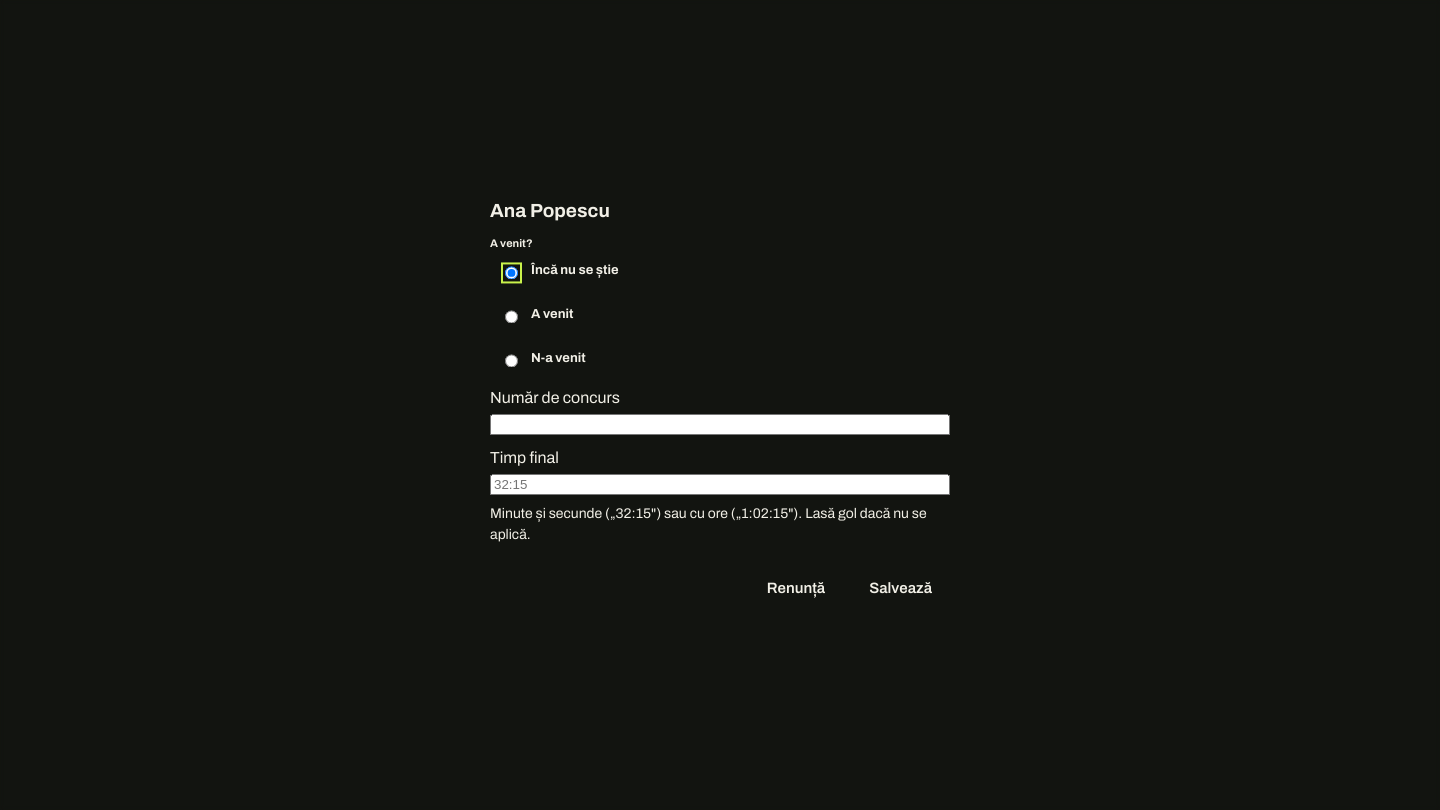
Test: DialogPrezenta — numărul și timpul › un timp de neînțeles oprește salvarea și spune cum se scrie
The width and height of the screenshot is (1440, 810).
In the field labelled "Timp final": (720, 485) [490,474,950,495], type "vreo 30 de minute"
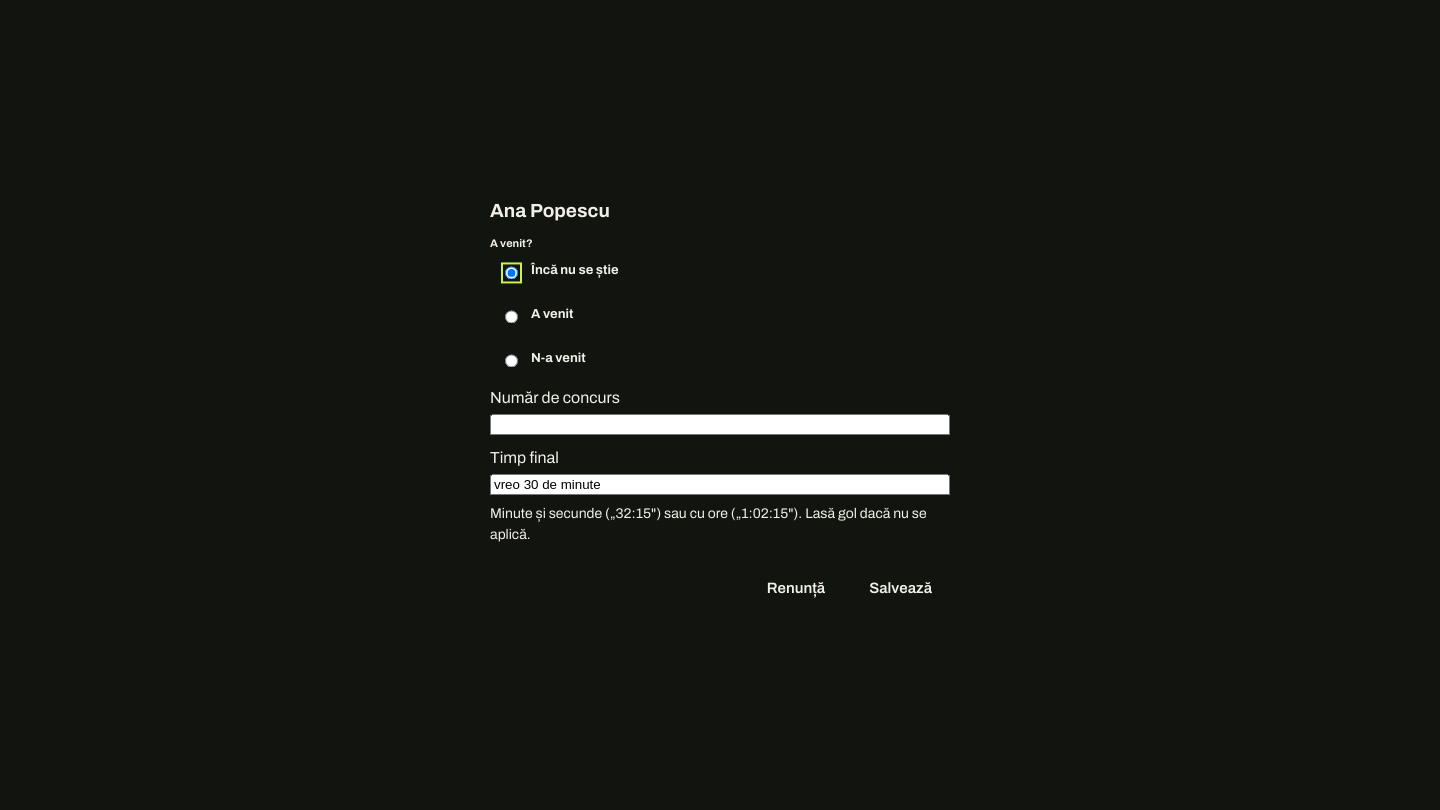
Click the button "Salvează": (901, 589) [851,567,950,611]
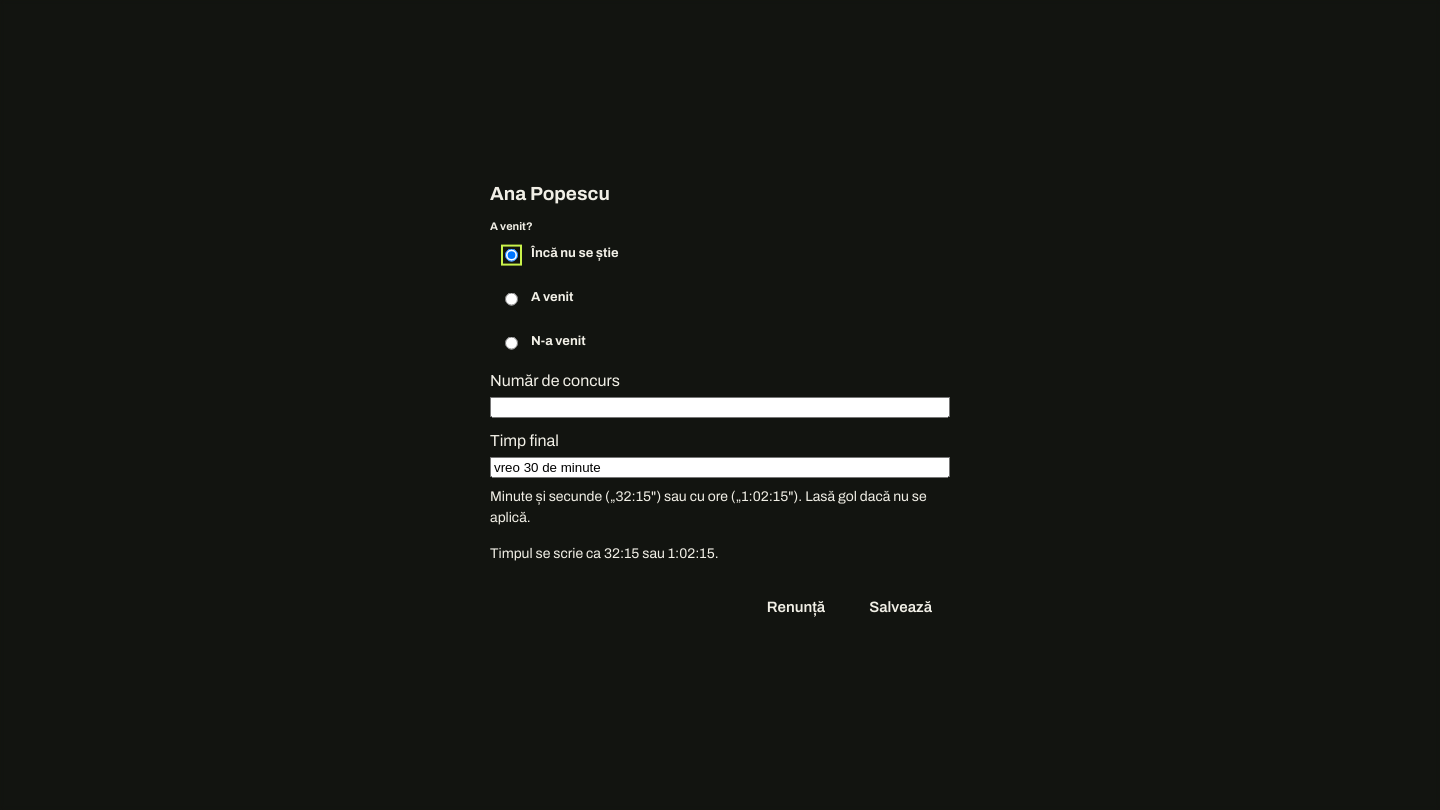
Result: the message shows "32:15" at [490,546,718,561]
